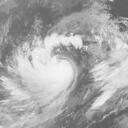cyclone: (11, 34, 79, 97)
